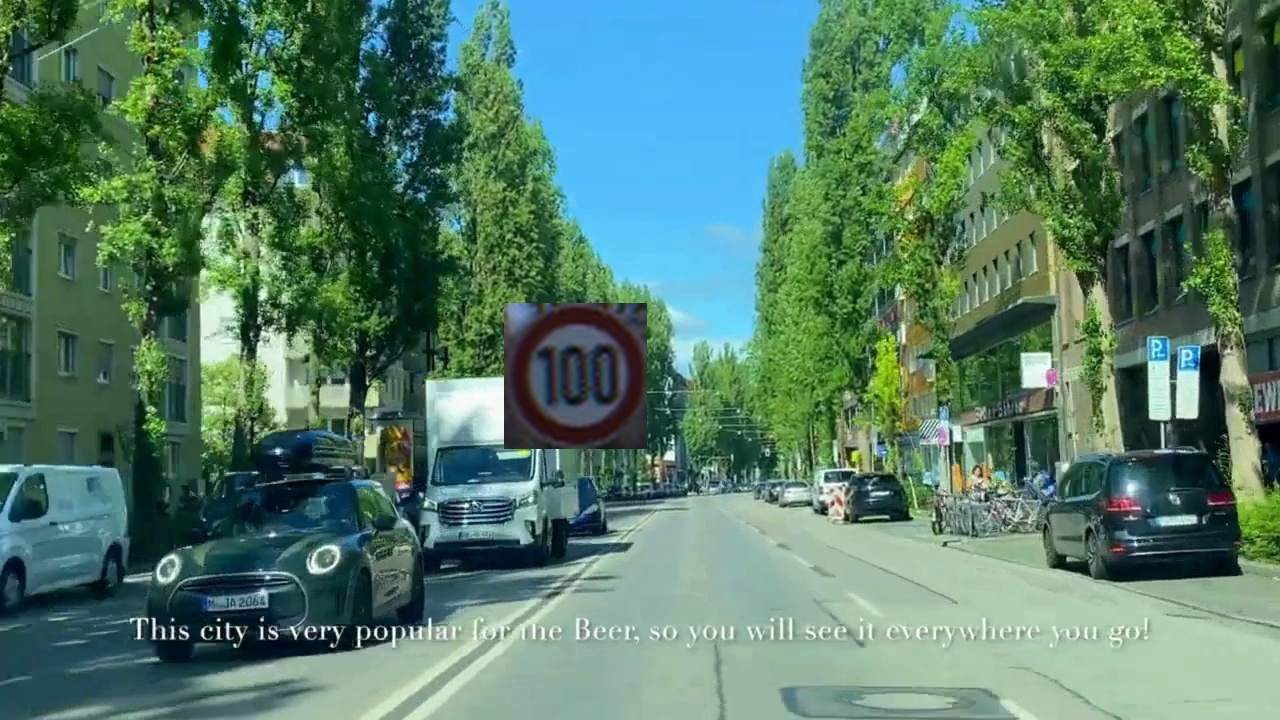Speed 100: (504, 303, 647, 449)
